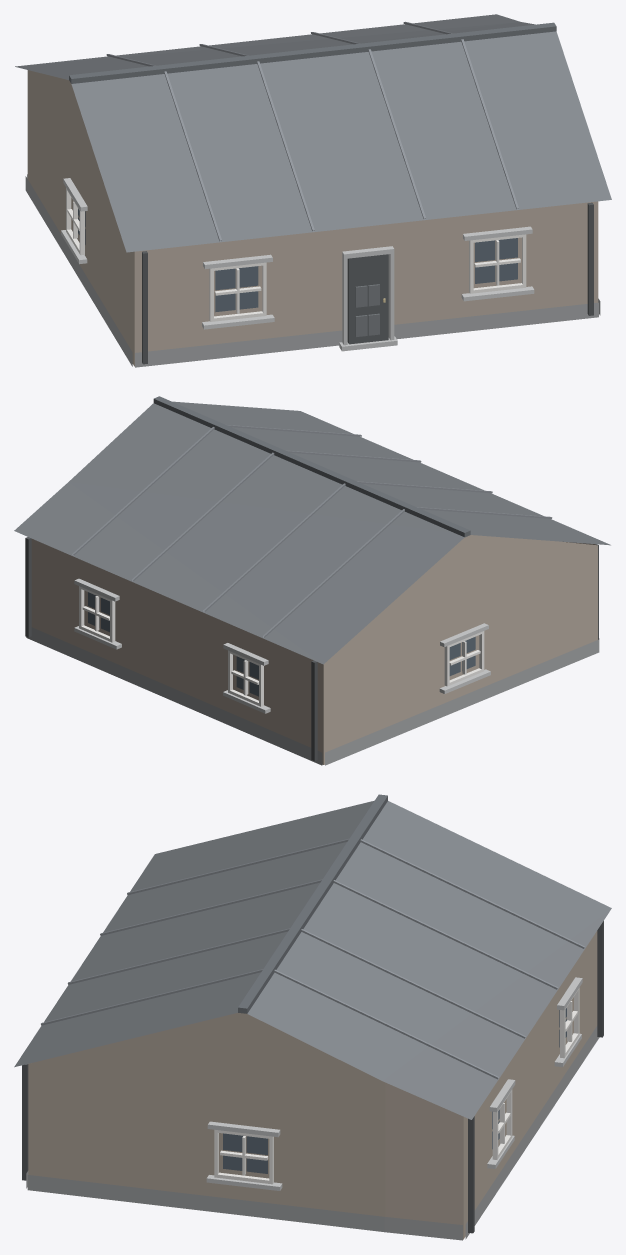
3 renders of one model, top to bottom at view 1: azimuth 30°, elevation 25°; view 2: azimuth 150°, elevation 25°; view 3: azimuth 270°, elevation 25°, orthographic. The views are drawn at different scales.
Parts seen in each view (by area): view 1: slate, harl_brown, plinth, stone_band, slate_dk, frame, slate_lt, door_dark, pipe, door_dark_p; view 2: slate, harl_brown, plinth, slate_lt, slate_dk, frame, stone_band, pipe; view 3: slate, harl_brown, plinth, slate_lt, frame, slate_dk, pipe, stone_band.
Part boxes in pixels (x1,y1,x2,y2): slate: [15, 14, 611, 252]; harl_brown: [27, 70, 598, 366]; plinth: [25, 174, 600, 367]; stone_band: [61, 178, 534, 351]; slate_dk: [69, 22, 556, 83]; frame: [66, 188, 526, 321]; slate_lt: [106, 21, 518, 241]; door_dark: [347, 254, 388, 344]; pipe: [142, 202, 593, 364]; door_dark_p: [355, 284, 379, 336]; slate: [14, 401, 610, 664]; harl_brown: [31, 535, 597, 764]; plinth: [26, 627, 599, 765]; slate_lt: [72, 425, 552, 637]; slate_dk: [153, 396, 470, 537]; frame: [79, 586, 484, 706]; stone_band: [74, 578, 490, 713]; pipe: [25, 537, 598, 760]; slate: [14, 800, 611, 1119]; harl_brown: [28, 931, 597, 1239]; plinth: [26, 1026, 599, 1240]; slate_lt: [41, 838, 584, 1079]; frame: [214, 987, 579, 1184]; slate_dk: [238, 794, 387, 1013]; pipe: [22, 921, 603, 1233]; stone_band: [206, 977, 582, 1190].
Size of the model in its own units: 12.97 by 4.84 by 12.32.
